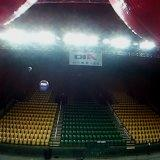Purple_Balloon: (39, 79, 49, 92)
